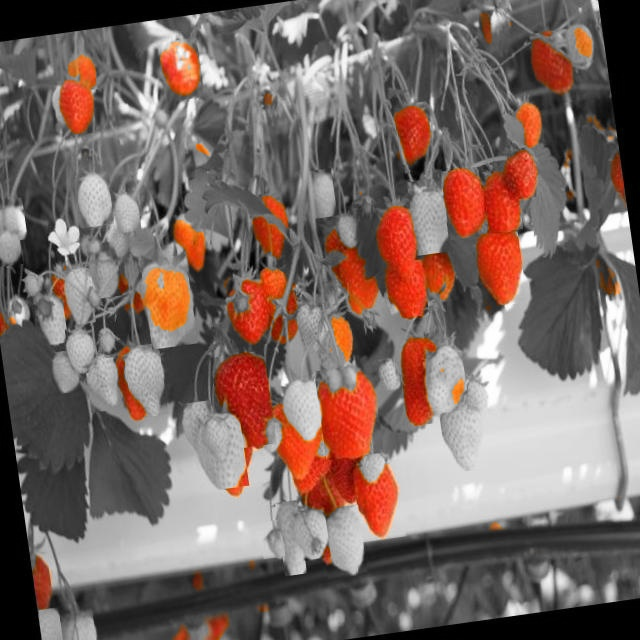ripe: (210, 350, 278, 451), (314, 364, 384, 461), (397, 329, 448, 427), (352, 462, 407, 542), (474, 231, 528, 308), (371, 199, 424, 273), (529, 28, 577, 106), (224, 276, 273, 349), (338, 238, 386, 312), (441, 166, 488, 240), (158, 38, 205, 103), (392, 101, 436, 166), (250, 191, 292, 258), (384, 259, 430, 320), (481, 168, 523, 234), (55, 73, 97, 137), (422, 242, 458, 304), (504, 149, 540, 200), (512, 100, 546, 149), (30, 551, 54, 611), (68, 52, 98, 92)
unripe: (140, 254, 198, 350), (190, 410, 250, 492), (414, 336, 470, 416), (319, 505, 368, 579), (439, 402, 490, 473), (123, 343, 169, 419), (407, 178, 451, 256), (275, 500, 307, 576), (74, 171, 115, 228), (290, 508, 332, 562), (87, 241, 123, 299), (84, 357, 120, 413), (182, 401, 218, 456), (62, 268, 96, 326), (35, 290, 69, 346), (57, 599, 101, 640), (65, 326, 100, 376), (306, 168, 338, 219), (49, 350, 82, 394), (111, 190, 142, 233), (0, 198, 28, 244), (197, 414, 226, 454), (258, 520, 286, 560), (333, 212, 362, 250), (463, 374, 490, 411), (0, 224, 23, 267), (39, 607, 66, 640)
